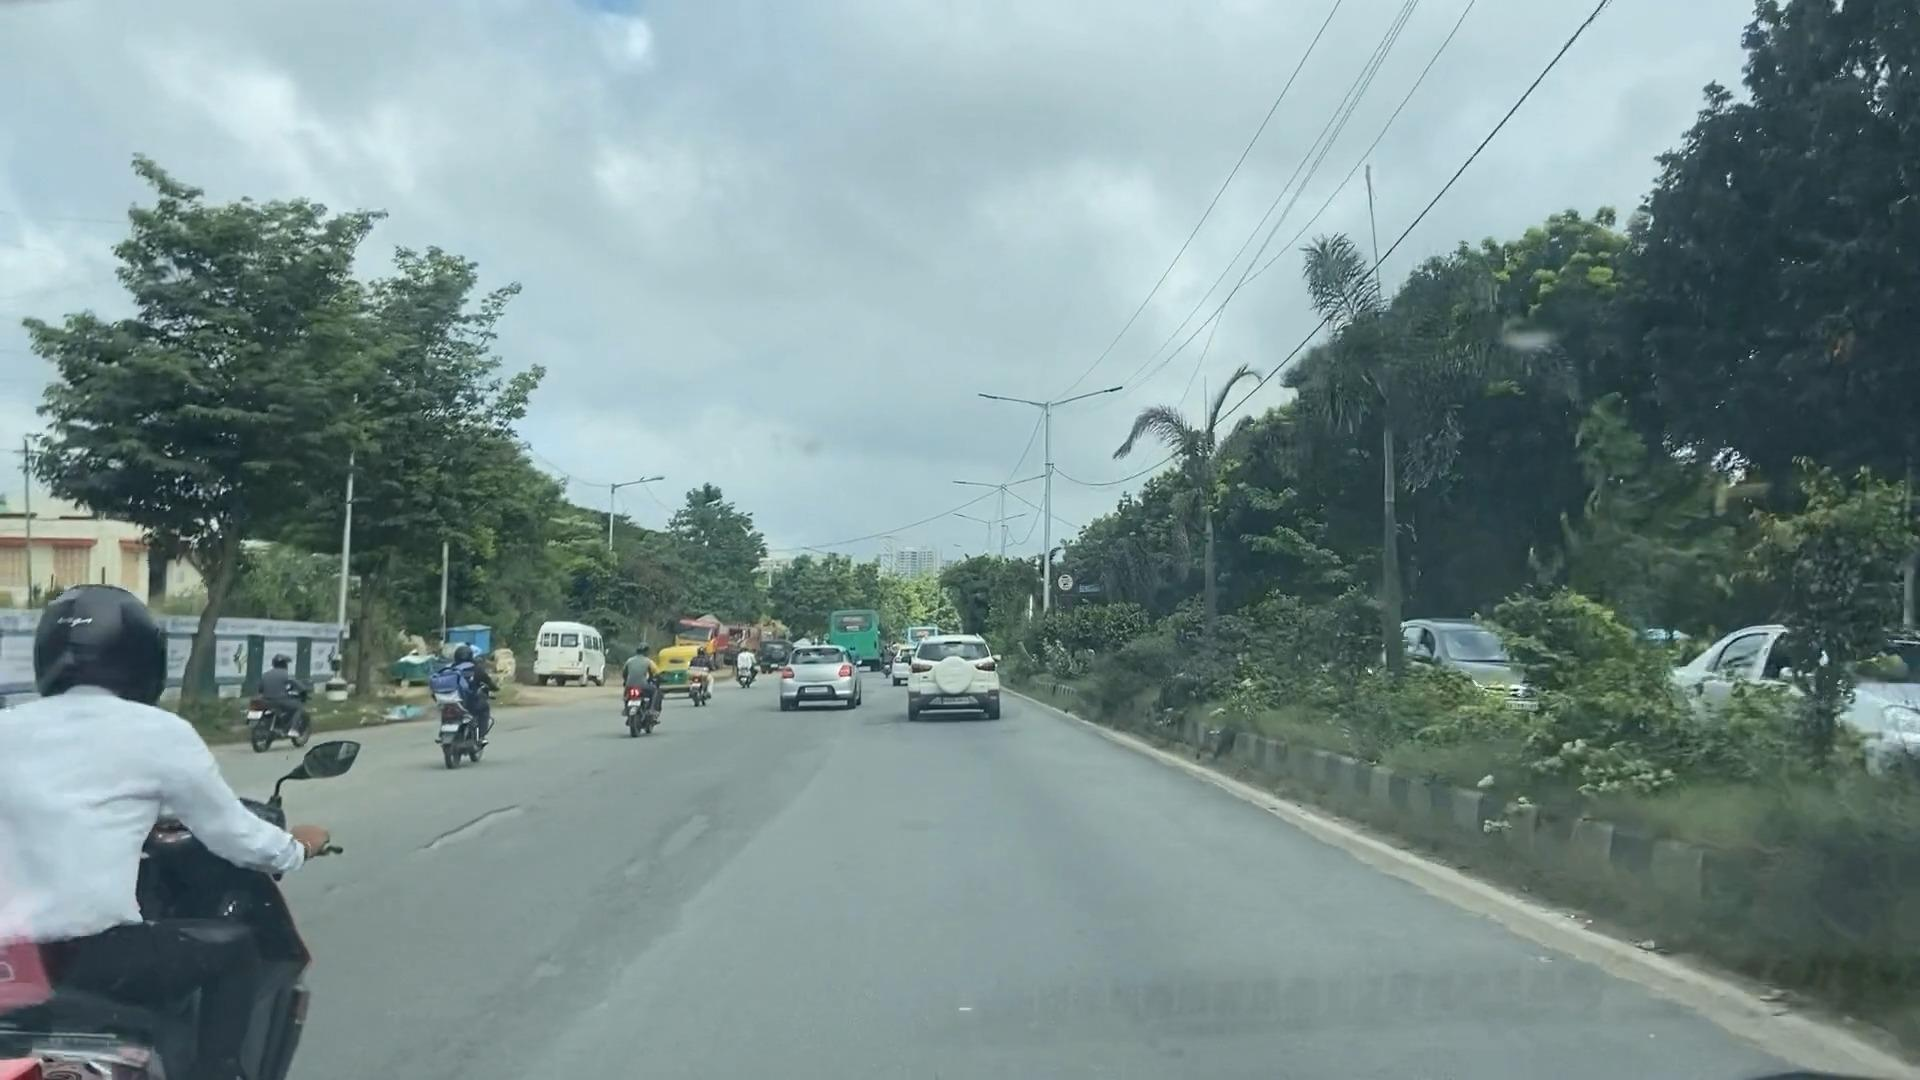HMV: (517, 593, 620, 695)
LMV: (414, 622, 513, 779), (890, 609, 1011, 723), (753, 614, 862, 724), (244, 634, 334, 766), (619, 638, 673, 743)
RoadDamages: (392, 787, 567, 862)
